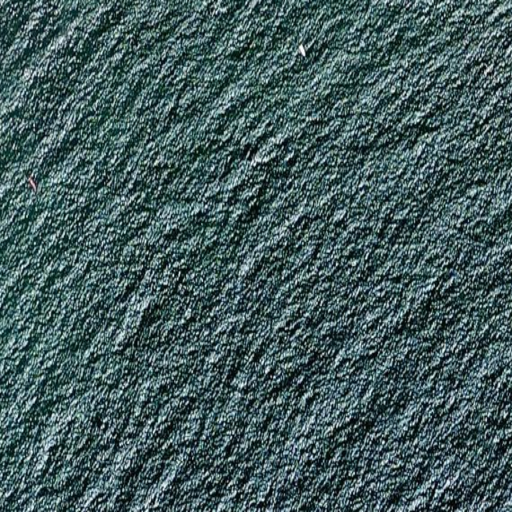ship: (298, 43, 308, 57)
